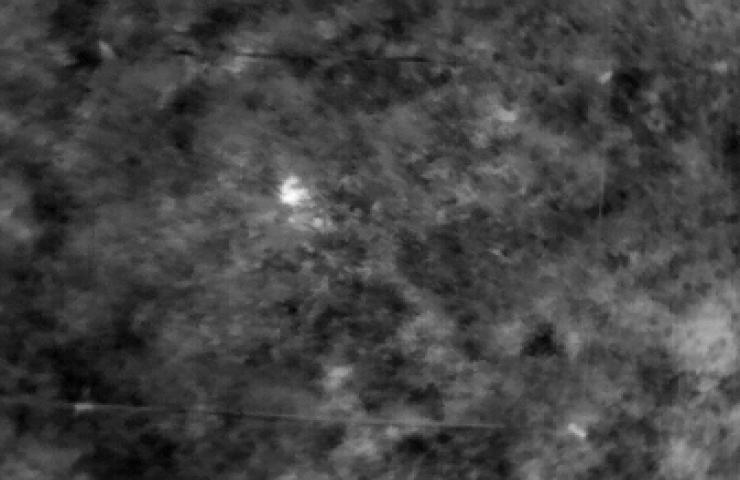landmines: (277, 173, 313, 208)
